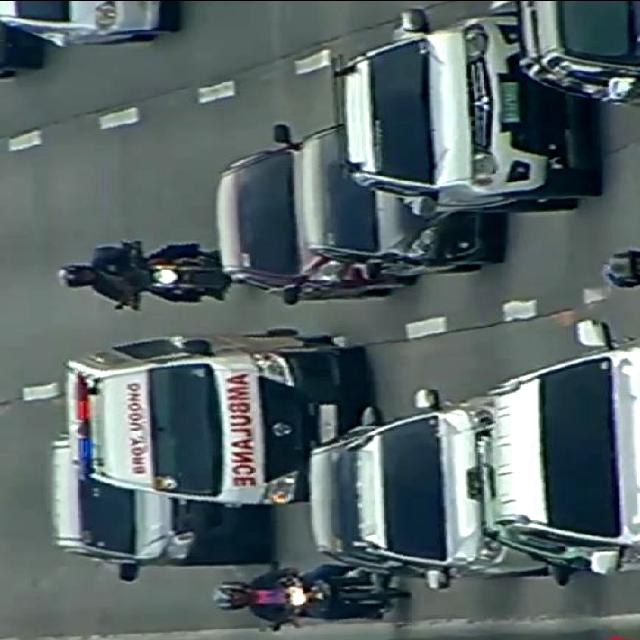emergency: (70, 332, 358, 503)
